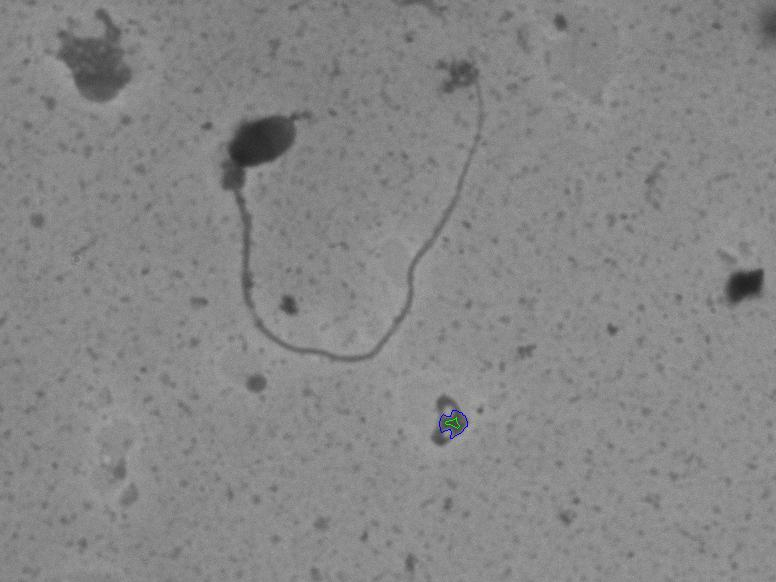Abnormal: (195, 50, 522, 386)
